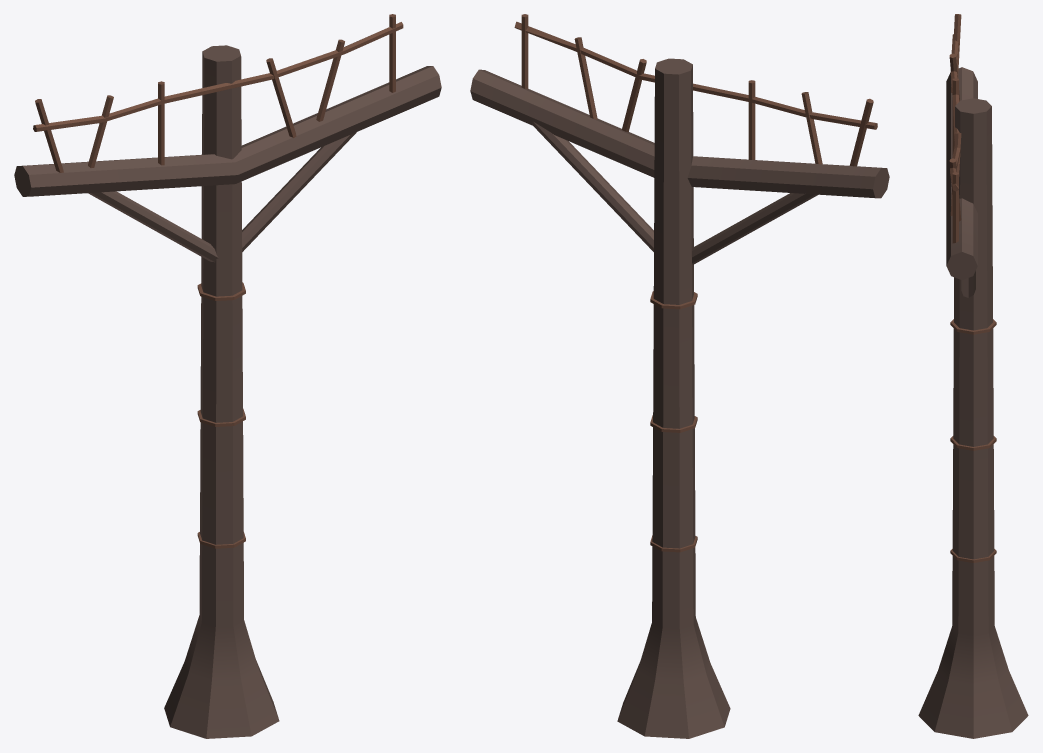
The model's file is west_post.fbx.
3 renders of one model, left to right at view 1: azimuth 30°, elevation 25°; view 2: azimuth 150°, elevation 25°; view 3: azimuth 270°, elevation 25°, orthographic. The views are drawn at different scales.
Parts seen in each view (by area): view 1: pCylinder15; view 2: pCylinder15; view 3: pCylinder15.
Part boxes in pixels (<box>): pCylinder15: <box>14,14,441,738</box>; pCylinder15: <box>470,14,889,738</box>; pCylinder15: <box>918,14,1028,738</box>.
Bounding box in the file's own units: 6.6 × 10.26 × 1.66.
